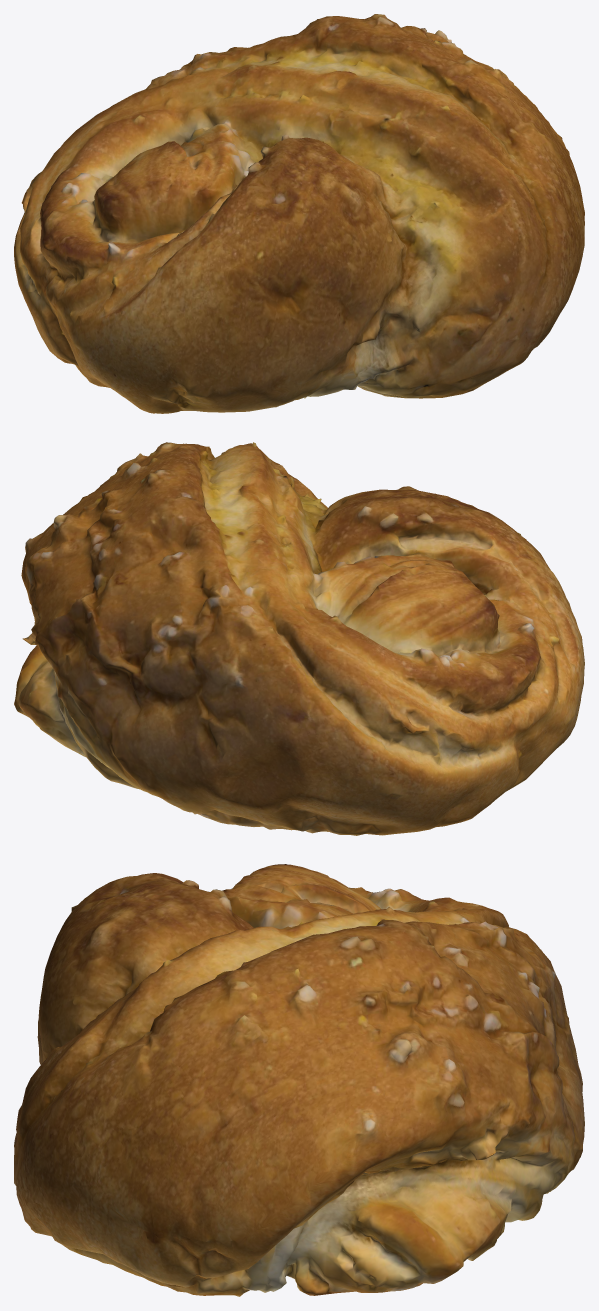
The model's file is BakeryProduct1_LOD1.gltf.
The picture shows the model from 3 angles, top to bottom: view 1: azimuth 30°, elevation 25°; view 2: azimuth 150°, elevation 25°; view 3: azimuth 270°, elevation 25°; orthographic projection. The views are drawn at different scales.
Visible parts, largest first — view 1: BakeryProduct1_LOD1; view 2: BakeryProduct1_LOD1; view 3: BakeryProduct1_LOD1.
Part boxes in pixels (<box>): BakeryProduct1_LOD1: <box>14,14,584,413</box>; BakeryProduct1_LOD1: <box>14,442,584,835</box>; BakeryProduct1_LOD1: <box>14,864,584,1296</box>.
Bounding box in the file's own units: 0.1648 × 0.0865 × 0.137.
Materials: 1 (1 with a texture image).
